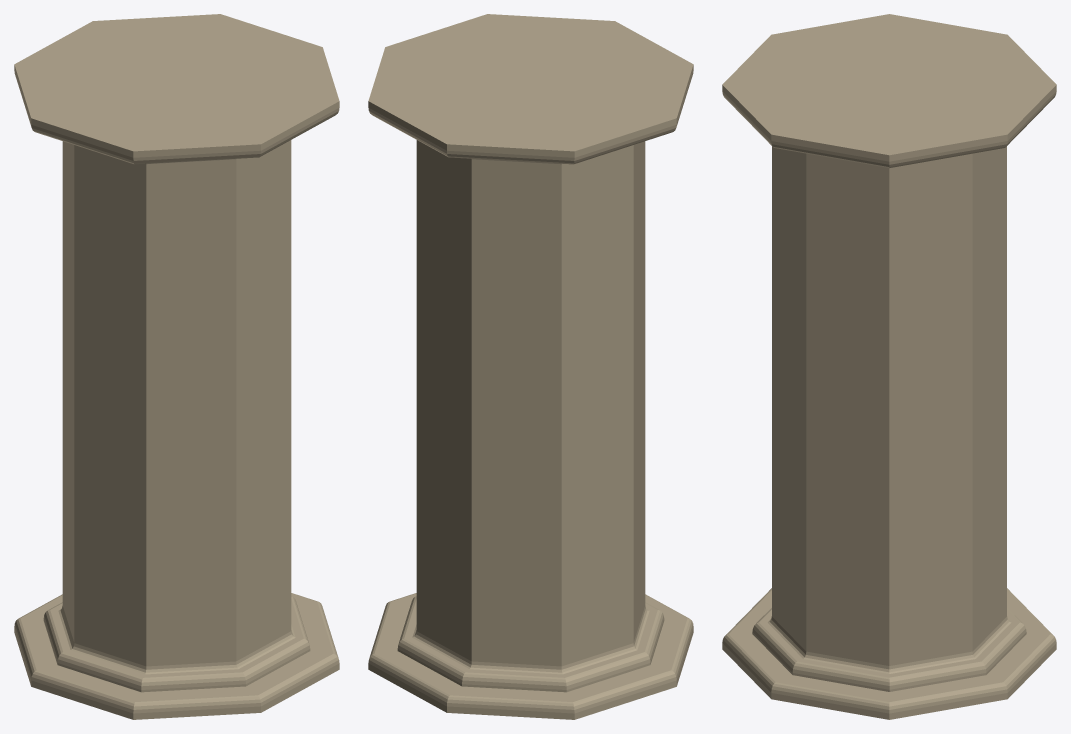
File: Pilar.fbx
3 views of the same model, side by side, from view 1: azimuth 30°, elevation 25°; view 2: azimuth 150°, elevation 25°; view 3: azimuth 270°, elevation 25° (orthographic).
Visible parts, largest first — view 1: Pilar; view 2: Pilar; view 3: Pilar.
Part boxes in pixels (bbox=[...]): Pilar: bbox=[14, 14, 339, 719]; Pilar: bbox=[368, 14, 693, 719]; Pilar: bbox=[722, 14, 1056, 719].
Size of the model in its own units: 37.56 by 37.56 by 69.99.
